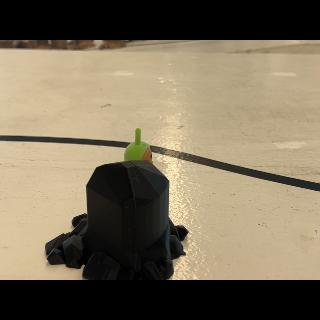teletubby: (124, 128, 153, 163)
